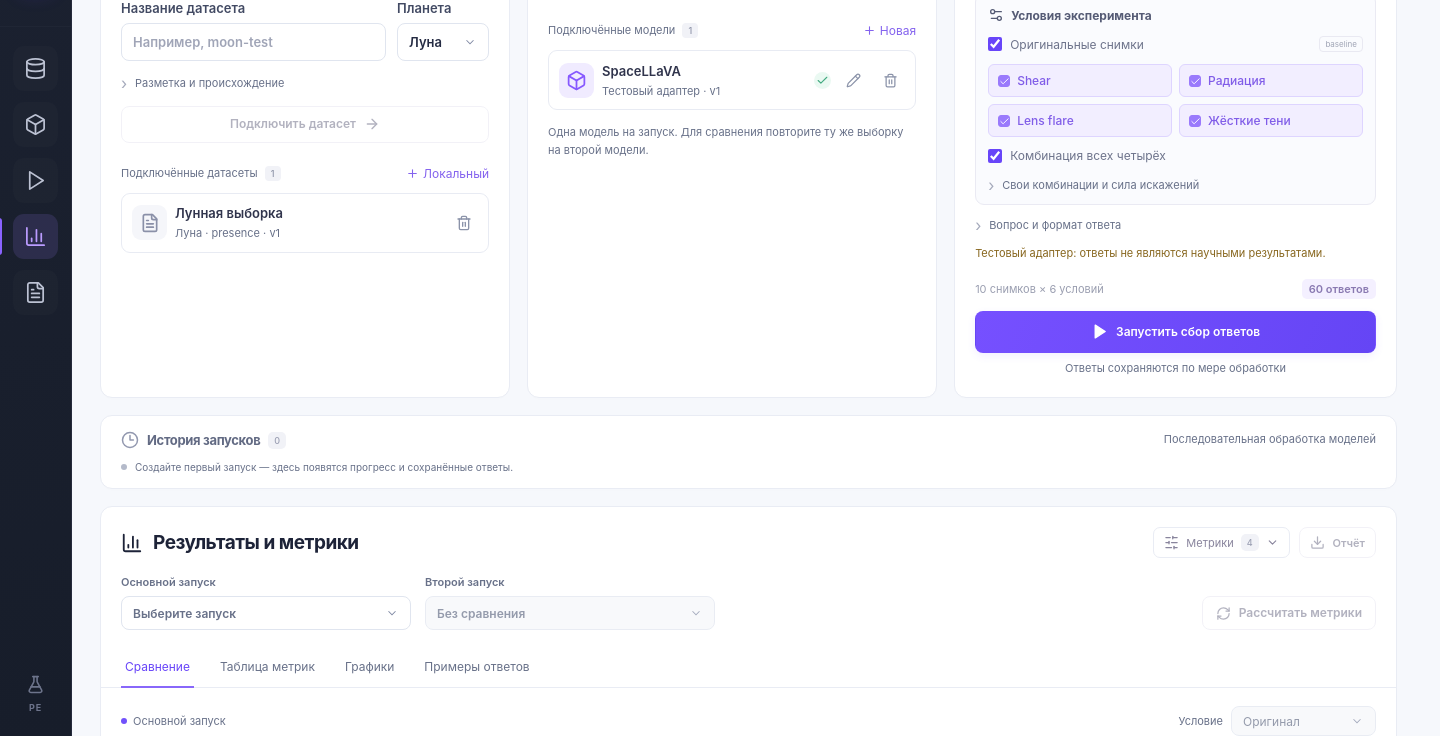
Test: evaluation workspace › starts one configured model and shows its queued progress
This screenshot has width=1440, height=736.
(page scrolled)
Click the button "Запустить сбор ответов" at (1176,332), box [975, 311, 1376, 353]
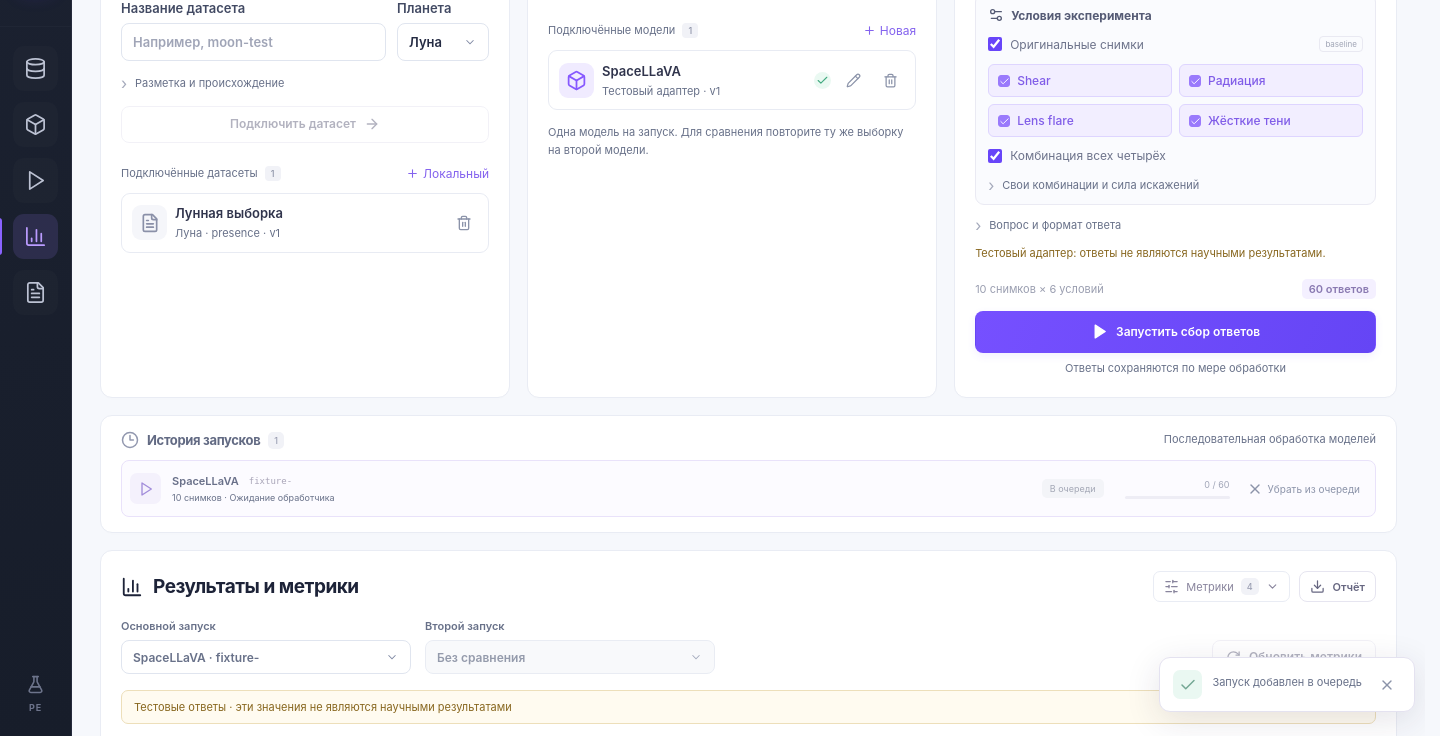
expect the text "В очереди" is shown: met, box [1042, 479, 1104, 498]
expect the button with aria-label "Убрать из очереди запуск fixture-" is enabled: met, box [1240, 474, 1367, 503]
